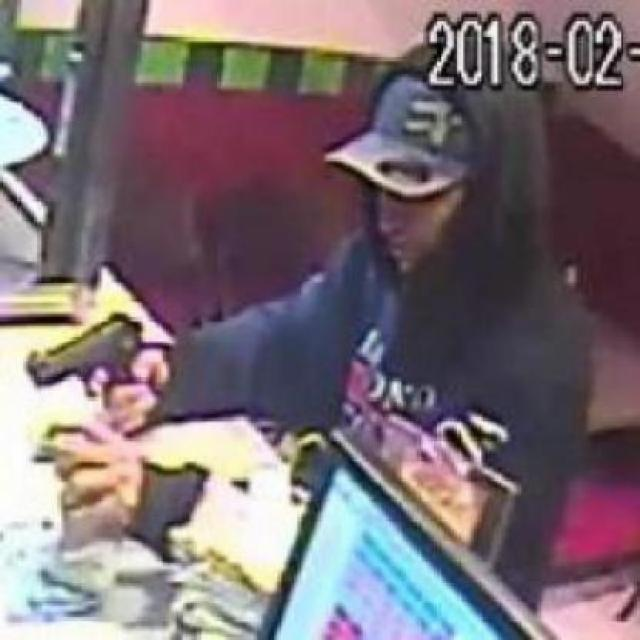gun: (19, 306, 167, 428)
